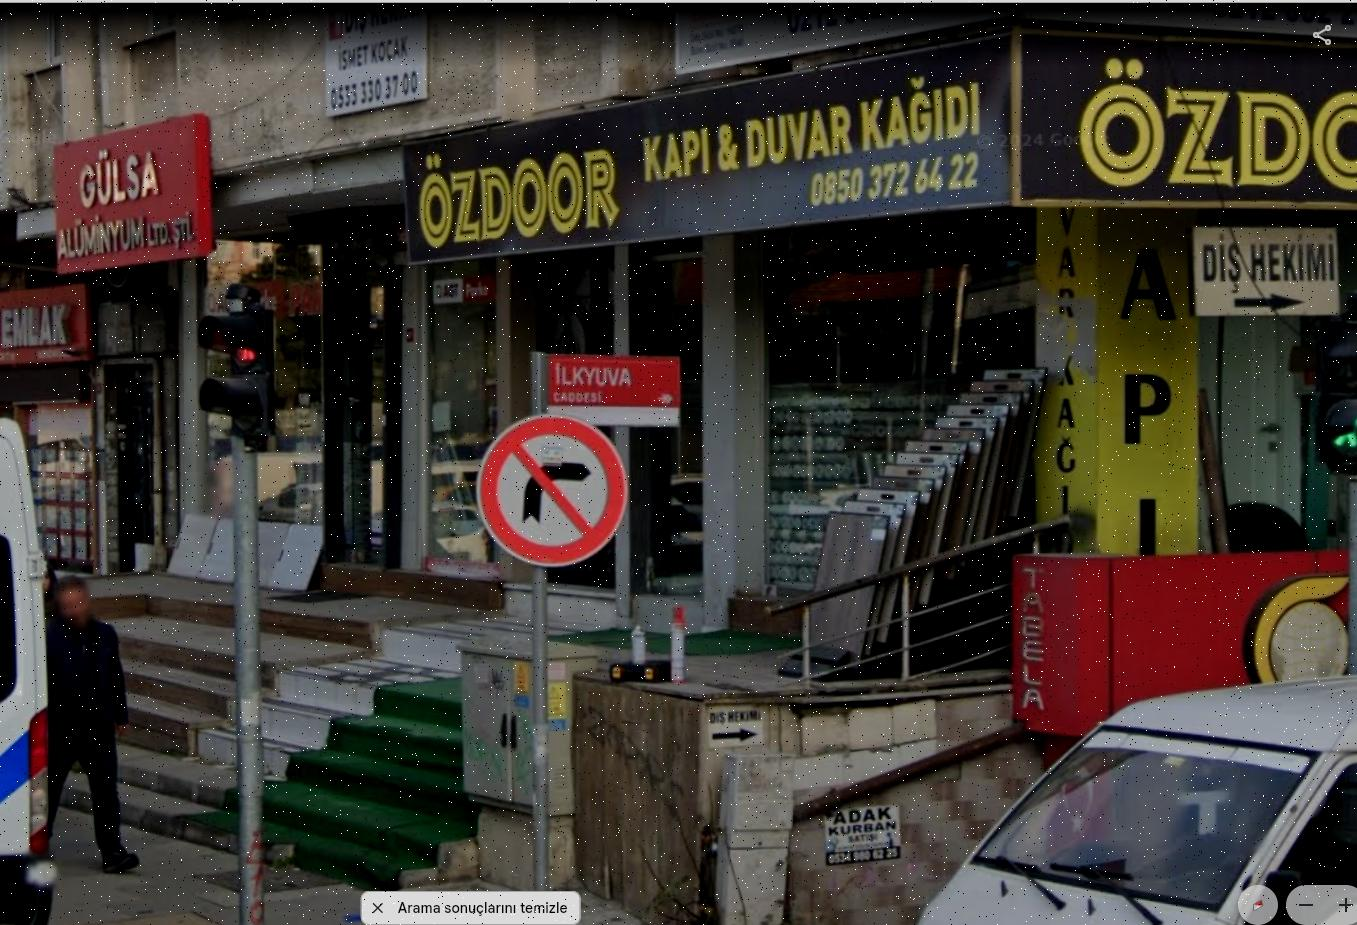rightturnsareforbidden: (481, 417, 633, 565)
